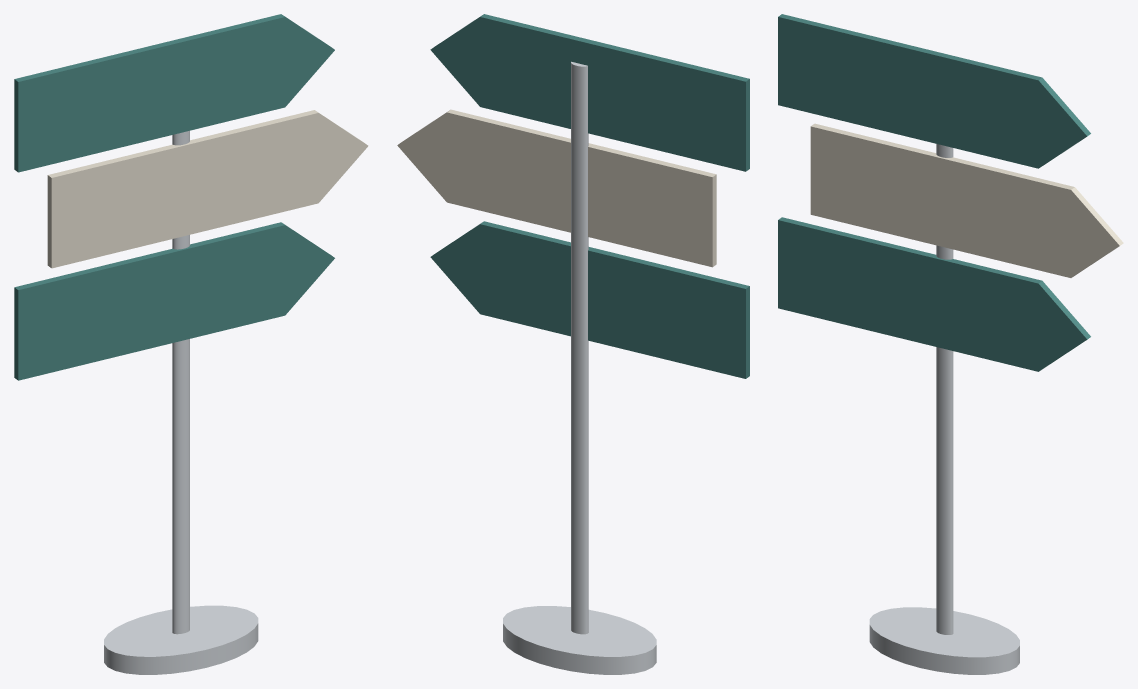
The model's file is wp-panneau-directionnel.glb.
3 views of the same model, side by side, from view 1: azimuth 30°, elevation 25°; view 2: azimuth 150°, elevation 25°; view 3: azimuth 330°, elevation 25° (orthographic). The views are drawn at different scales.
Visible parts, largest first — view 1: wp-panneau-directionnel; view 2: wp-panneau-directionnel; view 3: wp-panneau-directionnel.
Part boxes in pixels (x1,y1,x2,y2): wp-panneau-directionnel: [14, 14, 368, 674]; wp-panneau-directionnel: [397, 14, 749, 674]; wp-panneau-directionnel: [778, 14, 1123, 674].
Bounding box in the file's own units: 1.2 × 2 × 0.3.
